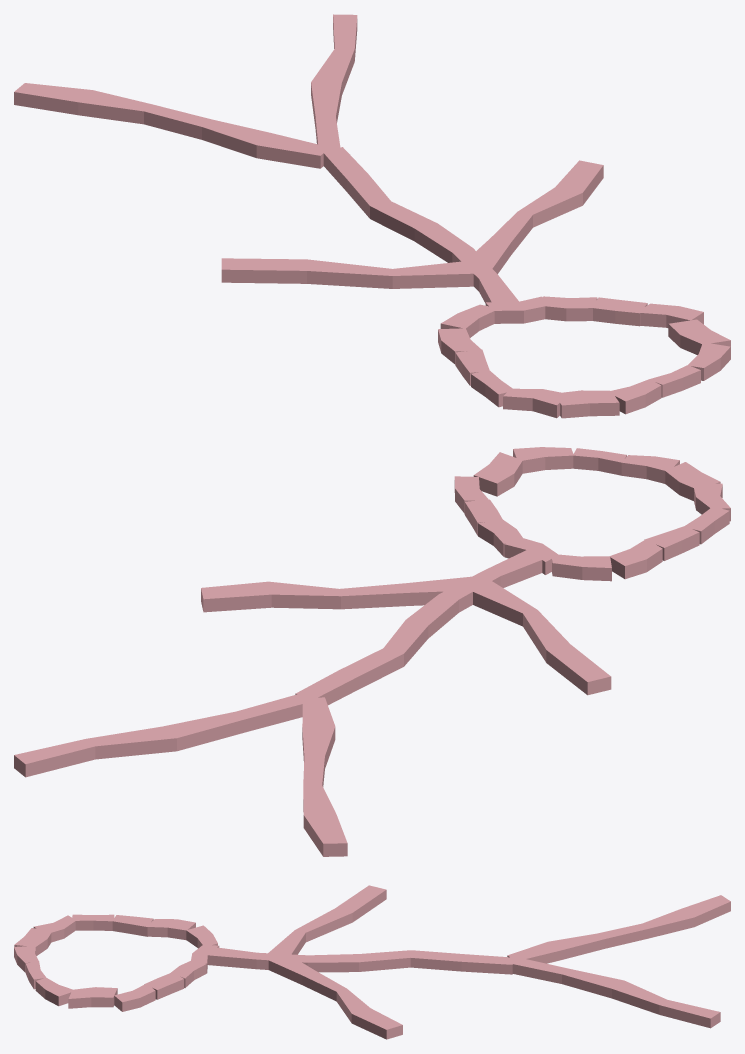
The model's file is env_chalk_tao.obj.
3 renders of one model, top to bottom at view 1: azimuth 30°, elevation 25°; view 2: azimuth 150°, elevation 25°; view 3: azimuth 270°, elevation 25°, orthographic. The views are drawn at different scales.
Parts seen in each view (by area): view 1: ChalkTao; view 2: ChalkTao; view 3: ChalkTao.
Part boxes in pixels (box(x1,y1,x2,y2)): ChalkTao: box(14, 14, 730, 418); ChalkTao: box(14, 447, 730, 856); ChalkTao: box(14, 885, 730, 1039).
Bounding box in the file's own units: 0.6347 × 0.02 × 1.33.
